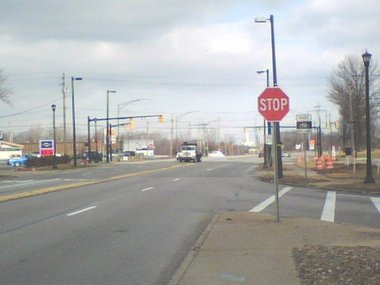stopsign: (257, 87, 290, 122)
